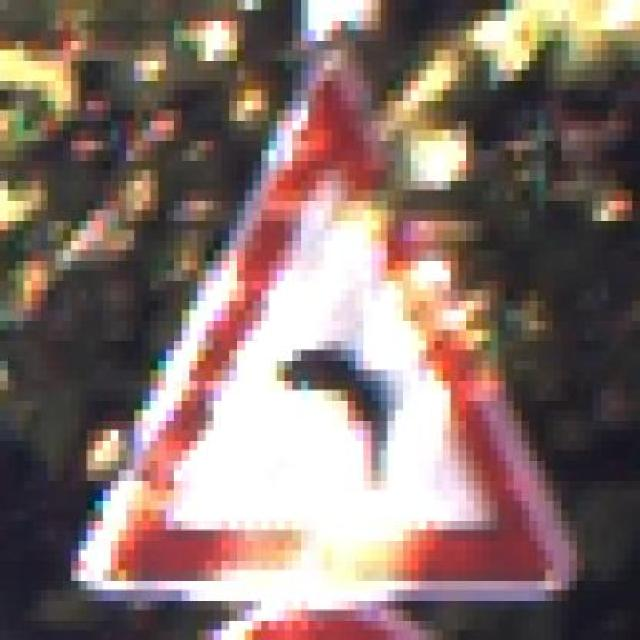Dangerous Left Curve Ahead: (79, 49, 593, 600)
